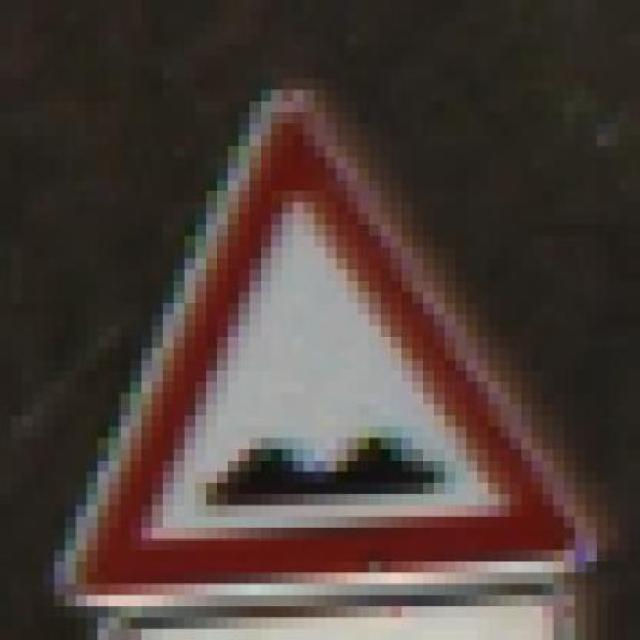Uneven Road: (54, 67, 608, 607)
